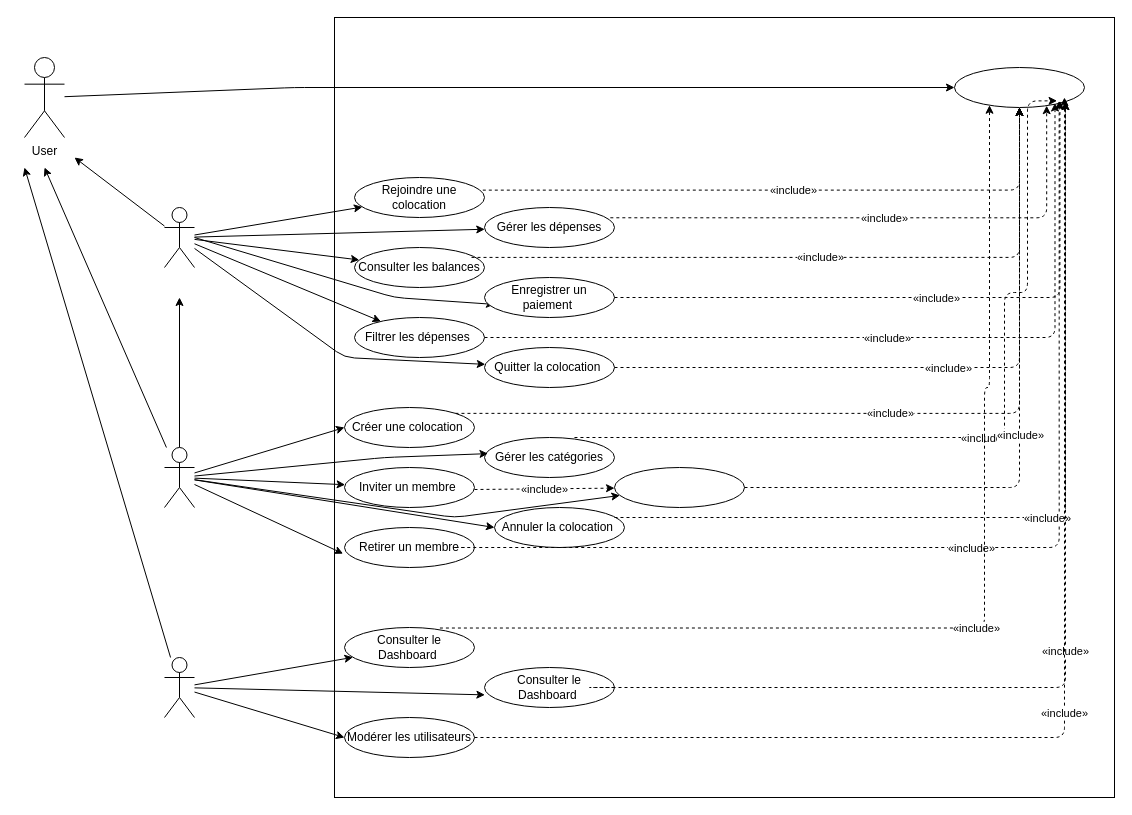
Some shapes in this 1132 by 815 pixel diagram are drawn without their labels. The centre of each missing label's shape, as x and y in pixels:
"Authentifié" belongs at point 1019,87.
"Global Admin" belongs at point 179,687.
"Générer un Token" belongs at point 679,487.
"Member" belongs at point 179,237.
"Owner" belongs at point 179,477.
